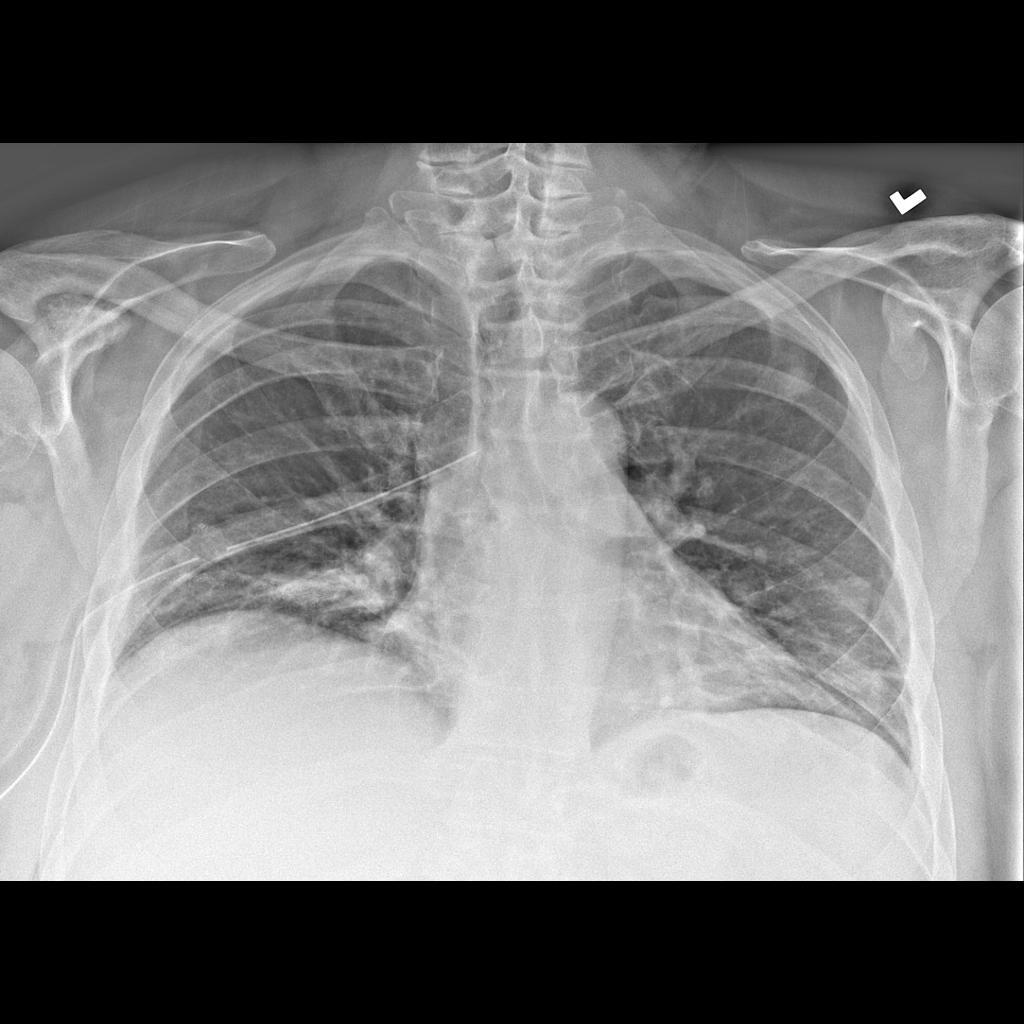Nodule: (821, 564, 880, 637), (769, 354, 821, 405)
